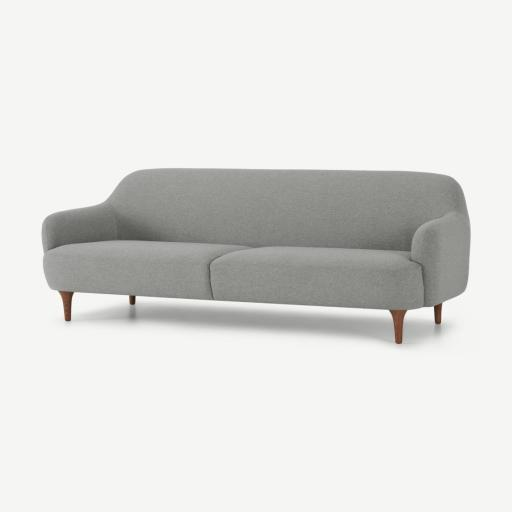back_cushion: (80, 169, 467, 250)
left_arm: (412, 212, 470, 323)
legs: (390, 310, 406, 344), (59, 291, 73, 321), (435, 305, 441, 323), (130, 296, 135, 304)
right_arm: (42, 202, 116, 253)
seat_cushion: (44, 240, 423, 309)
two-seater: (0, 0, 511, 512)
